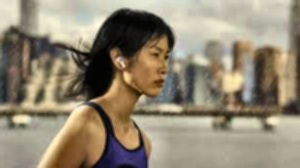earphone: (110, 48, 125, 70)
